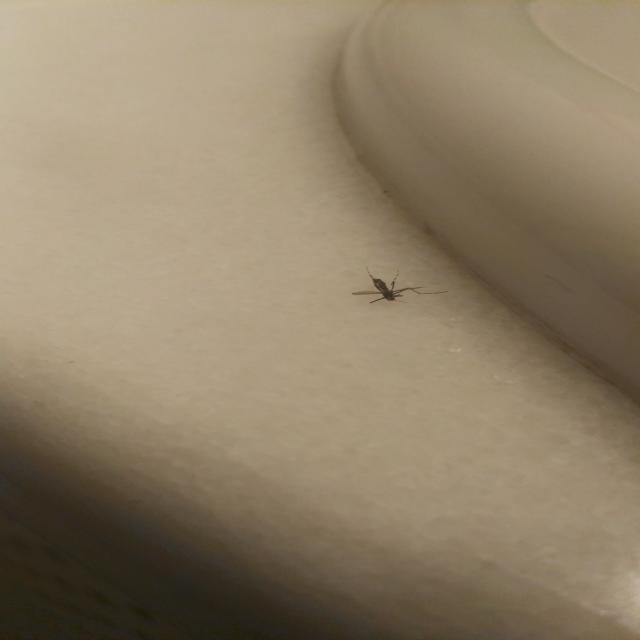albopictus: (346, 260, 455, 307)
